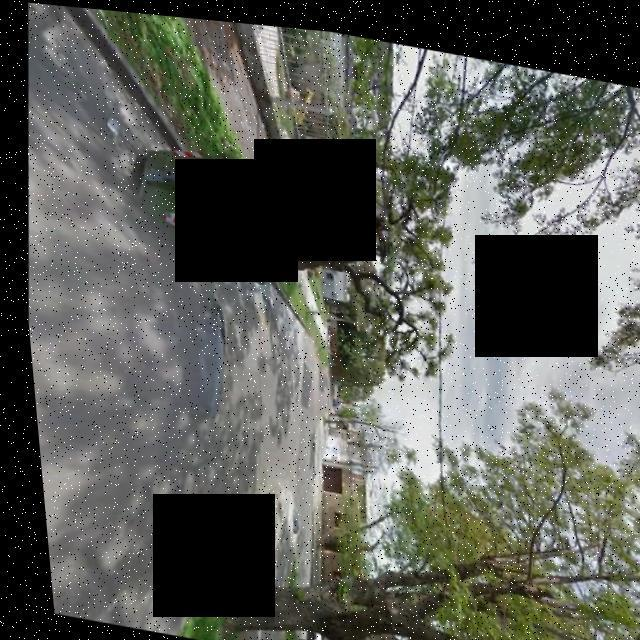bin: (110, 126, 299, 298)
